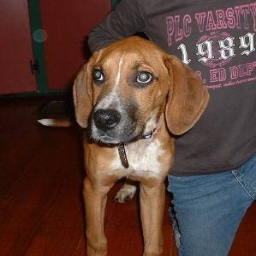dog: (68, 36, 211, 256)
